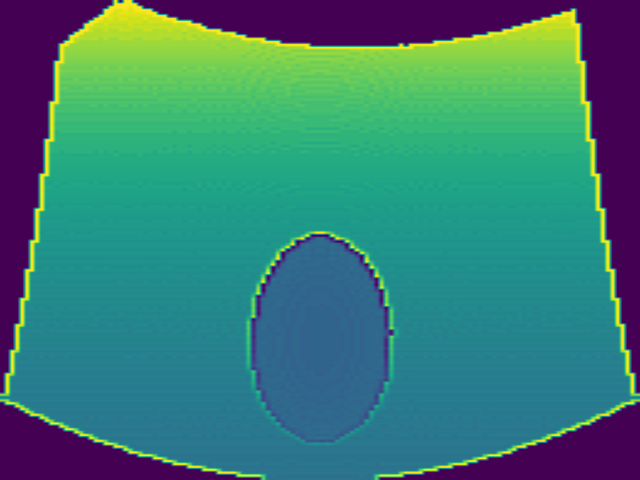sphere: (246, 231, 396, 446)
